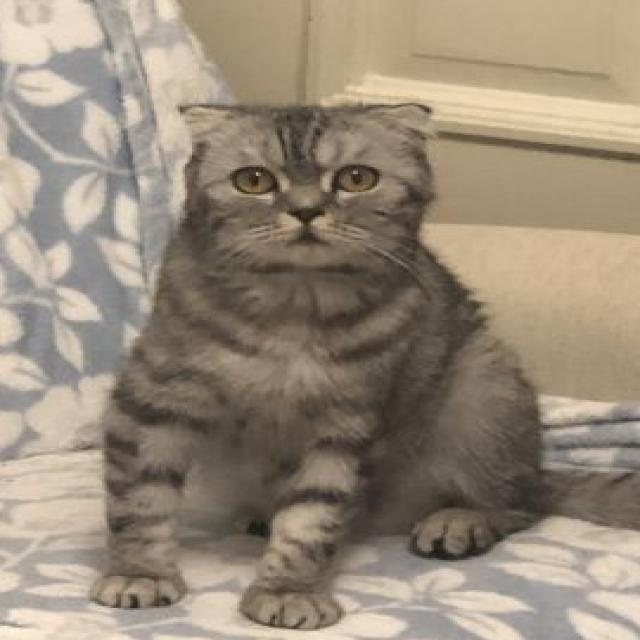Scottish Fold: (85, 94, 640, 633)
